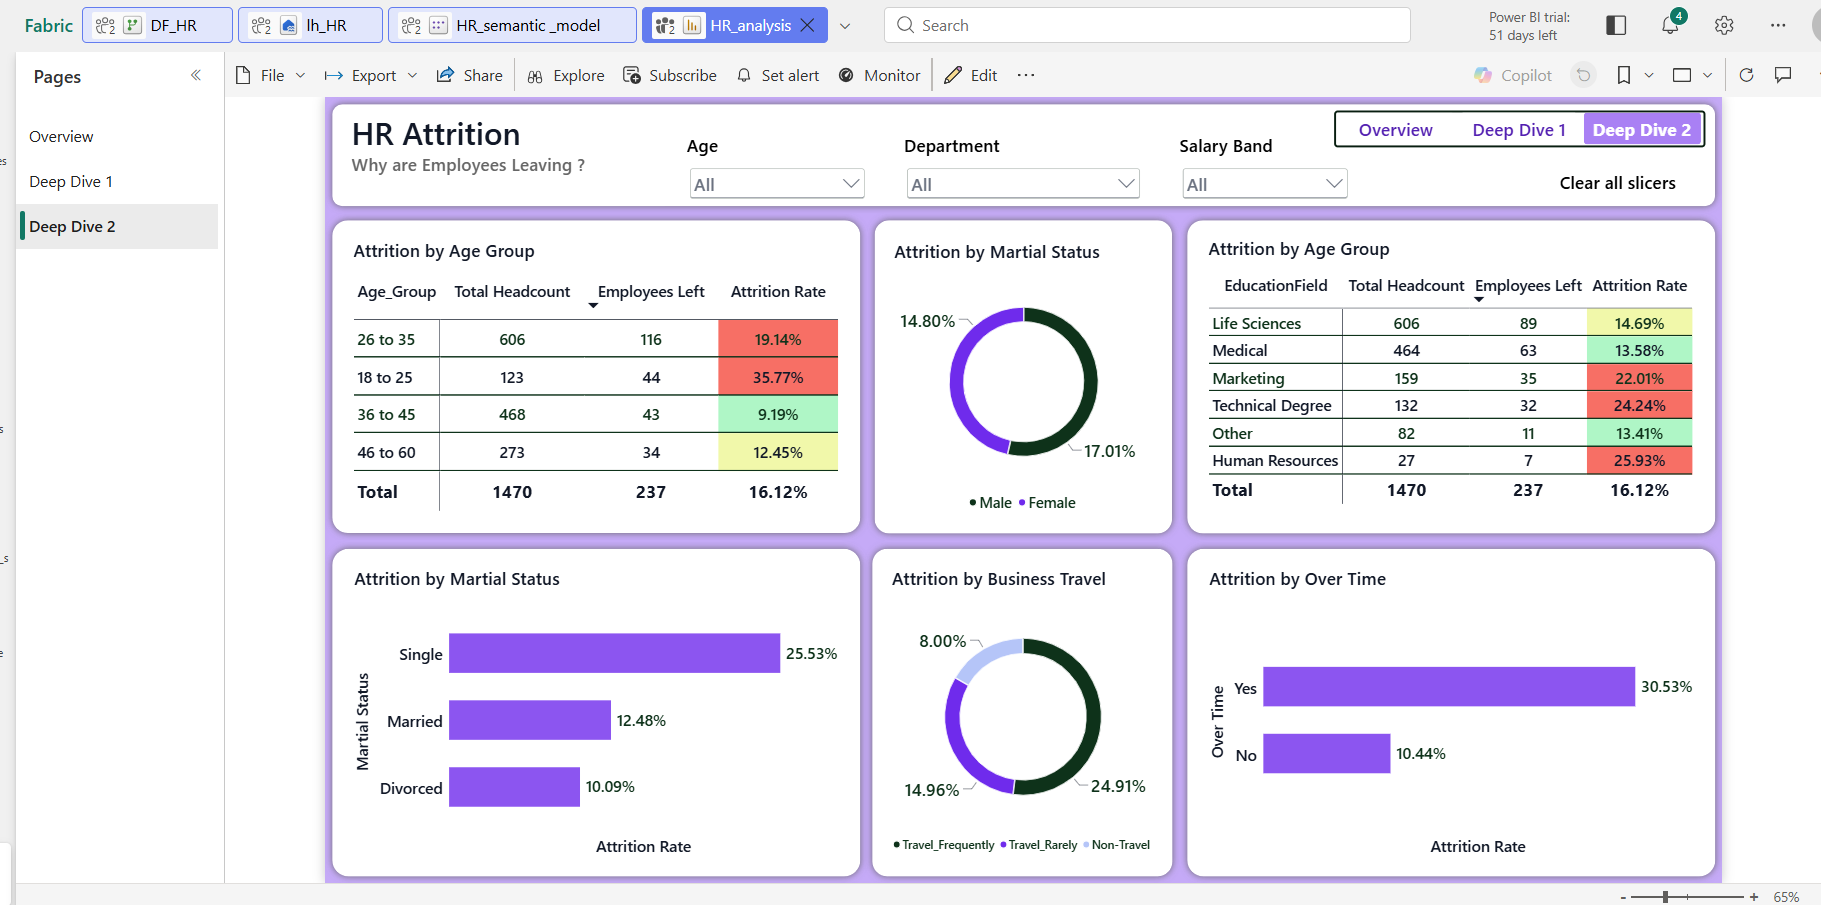

The page's visual inventory and layout, read from the dashboard file:
{"tool":"powerbi","page":{"name":"Deep Dive 2","canvas":[1920,1080],"ordinal":2},"visuals":[{"type":"shape","box":[0,0,1920.1,160],"z":0},{"type":"textbox","box":[36.2,18.1,437.9,97.7],"z":1000},{"type":"slicer","fields":{"Values":["HR-Employee.Age"]},"box":[495.8,92.3,250,48.9],"z":2000},{"type":"slicer","fields":{"Values":["HR-Employee.Salary_band"]},"box":[1172.7,92.3,237.1,48.9],"z":3000},{"type":"slicer","fields":{"Values":["HR-Employee.Department"]},"box":[794.4,92.3,330,48.9],"z":4000},{"type":"textbox","box":[495.8,48.9,79.6,36.2],"z":5000},{"type":"textbox","box":[794.4,48.9,141.2,36.2],"z":6000},{"type":"textbox","box":[1172.7,48.9,146.6,36.2],"z":7000},{"type":"actionButton","box":[1668.5,92.3,217.2,50.7],"z":8000},{"type":"pageNavigator","box":[1386.2,18.1,510,50.7],"z":9000},{"type":"shape","box":[0,159.3,745.6,450],"z":10000},{"type":"shape","box":[745.8,159.3,428.9,450.6],"z":11000},{"type":"pivotTable","title":"Attrition by Age Group","fields":{"Rows":["HR-Employee.Age_Group"],"Values":["HR-Employee.Total Headcount","HR-Employee.Employees Left","HR-Employee.Attrition Rate"]},"box":[23.5,179.2,698.5,411],"z":12000},{"type":"shape","box":[0,609.9,745.6,470.5],"z":13000},{"type":"barChart","title":"Attrition by Martial Status","fields":{"Category":["HR-Employee.MaritalStatus"],"Y":["HR-Employee.Attrition Rate"]},"box":[23.5,629.8,698.5,430.7],"z":14000},{"type":"donutChart","title":"Attrition by Martial Status","fields":{"Category":["HR-Employee.Gender"],"Y":["HR-Employee.Attrition Rate"]},"box":[765.3,181,390,410.8],"z":15000},{"type":"shape","box":[742,609.9,432.5,470.5],"z":16000},{"type":"donutChart","title":"Attrition by Business Travel","fields":{"Category":["HR-Employee.BusinessTravel"],"Y":["HR-Employee.Attrition Rate"]},"box":[761.9,629.8,394.5,430.7],"z":17000},{"type":"shape","box":[1174.5,159.3,745.6,450.6],"z":18000},{"type":"pivotTable","title":"Attrition by Age Group","fields":{"Rows":["HR-Employee.EducationField"],"Values":["HR-Employee.Total Headcount","HR-Employee.Employees Left","HR-Employee.Attrition Rate"]},"box":[1198,177.3,698.5,412.6],"z":19000},{"type":"shape","box":[1174.5,609.9,745.6,470.5],"z":20000},{"type":"barChart","title":"Attrition by Over Time","fields":{"Category":["HR-Employee.OverTime"],"Y":["HR-Employee.Attrition Rate"]},"box":[1198,629.8,698.5,430.7],"z":21000}]}

Visuals, with their boxes on the page's 1920x1080 design canvas (x1, y1, x2, y2). These are canvas units, not pixel positions in the 1821x905 screenshot, which may show the page scaled, cropped or inside an application window:
shape: bbox=[0, 0, 1920, 160]
textbox: bbox=[36, 18, 474, 116]
slicer - HR-Employee.Age: bbox=[496, 92, 746, 141]
slicer - HR-Employee.Salary_band: bbox=[1173, 92, 1410, 141]
slicer - HR-Employee.Department: bbox=[794, 92, 1124, 141]
textbox: bbox=[496, 49, 575, 85]
textbox: bbox=[794, 49, 936, 85]
textbox: bbox=[1173, 49, 1319, 85]
actionButton: bbox=[1668, 92, 1886, 143]
pageNavigator: bbox=[1386, 18, 1896, 69]
shape: bbox=[0, 159, 746, 609]
shape: bbox=[746, 159, 1175, 610]
"Attrition by Age Group" pivotTable: bbox=[24, 179, 722, 590]
shape: bbox=[0, 610, 746, 1080]
"Attrition by Martial Status" barChart: bbox=[24, 630, 722, 1060]
"Attrition by Martial Status" donutChart: bbox=[765, 181, 1155, 592]
shape: bbox=[742, 610, 1174, 1080]
"Attrition by Business Travel" donutChart: bbox=[762, 630, 1156, 1060]
shape: bbox=[1174, 159, 1920, 610]
"Attrition by Age Group" pivotTable: bbox=[1198, 177, 1896, 590]
shape: bbox=[1174, 610, 1920, 1080]
"Attrition by Over Time" barChart: bbox=[1198, 630, 1896, 1060]
